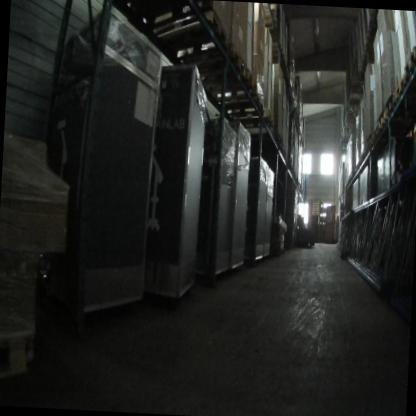pallet: (151, 6, 228, 65), (115, 0, 205, 31), (198, 67, 258, 103), (191, 44, 246, 79), (218, 93, 265, 118), (384, 93, 416, 120), (239, 107, 274, 130), (378, 110, 413, 131), (394, 74, 416, 102), (403, 46, 416, 80), (365, 135, 389, 150), (372, 127, 395, 141), (368, 8, 378, 22)
